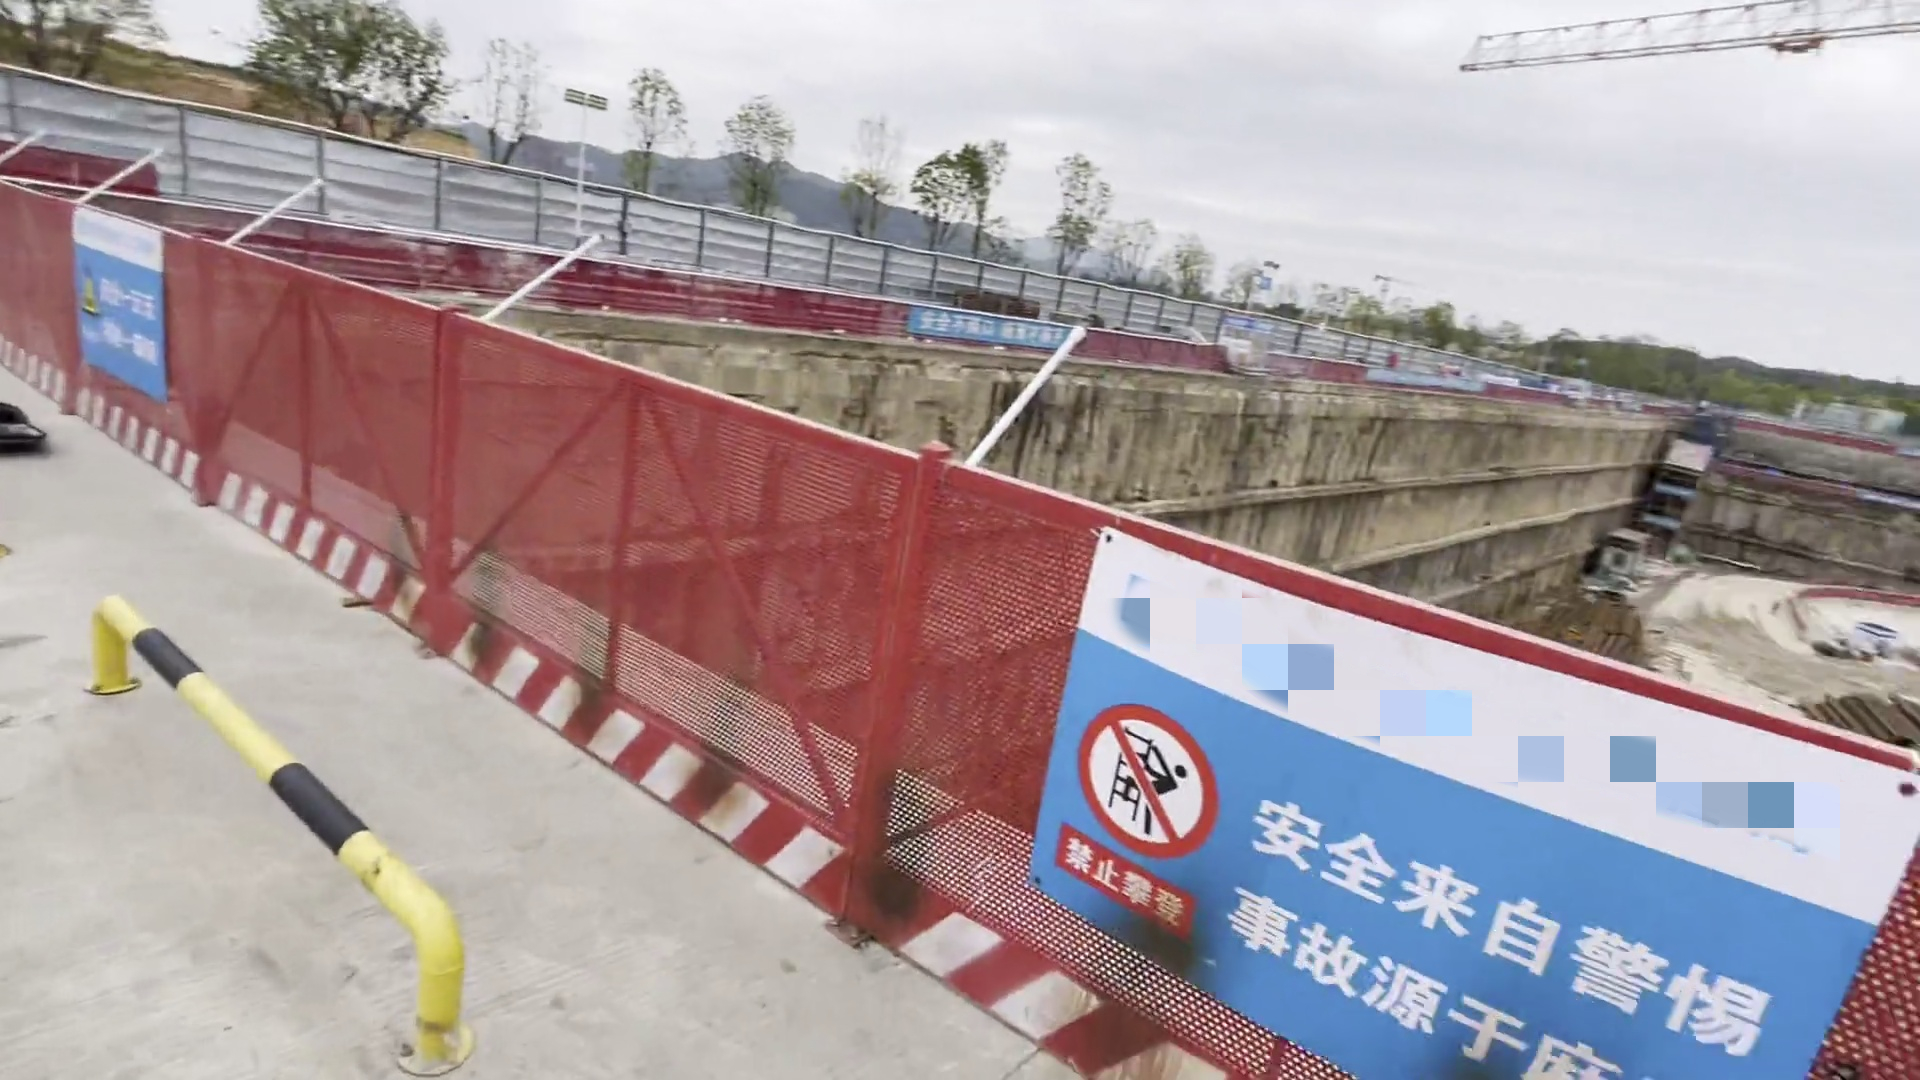fence: (622, 369, 1920, 1067), (1, 171, 647, 811)
slogan: (1087, 684, 1829, 1080), (57, 255, 175, 378)
